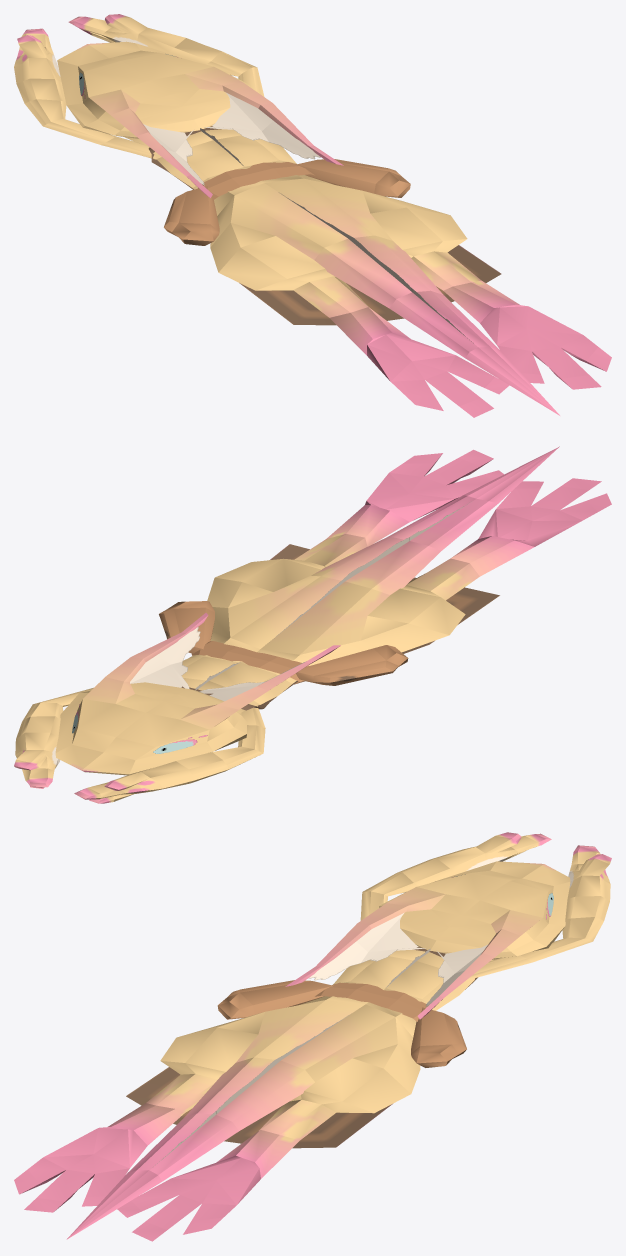
File: SM_MunchSurfBoard.fbx
3 renders of one model, top to bottom at view 1: azimuth 30°, elevation 25°; view 2: azimuth 150°, elevation 25°; view 3: azimuth 330°, elevation 25°, orthographic.
Parts seen in each view (by area): view 1: MunchBoard; view 2: MunchBoard; view 3: MunchBoard.
Boxes of the visible parts, x1=… form: MunchBoard: x1=14, y1=14, x2=611, y2=417; MunchBoard: x1=14, y1=446, x2=611, y2=803; MunchBoard: x1=14, y1=832, x2=611, y2=1241.
Bounding box in the file's own units: 216 × 46.53 × 807.
